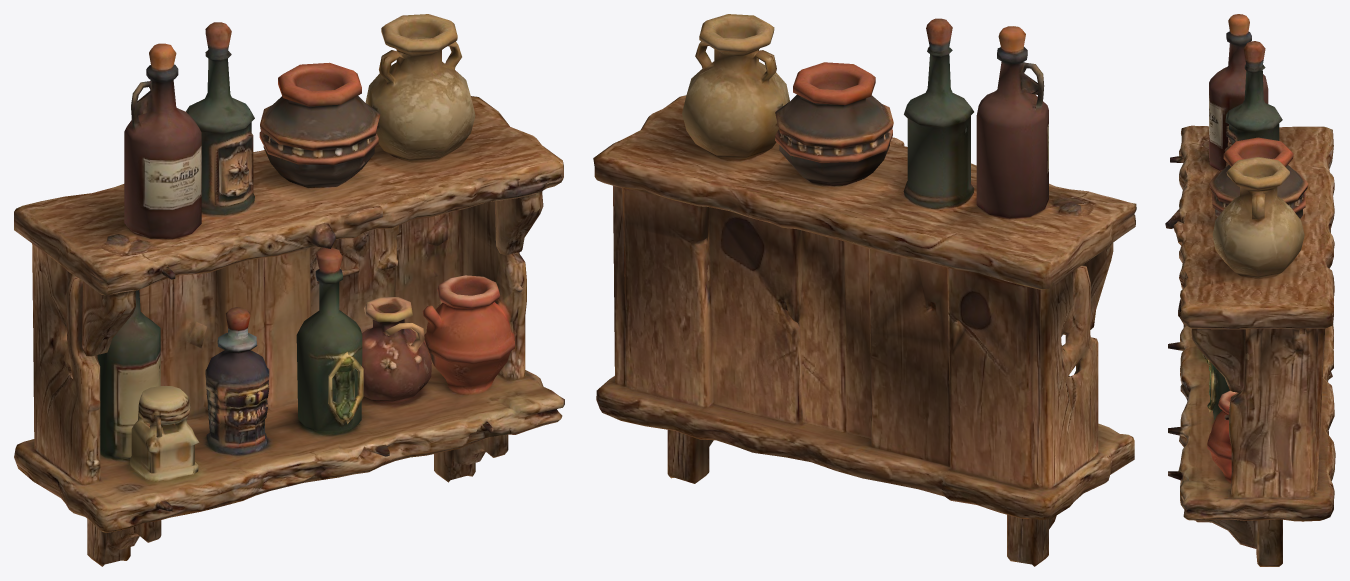
File: shelf.glb
3 views of the same model, side by side, from view 1: azimuth 30°, elevation 25°; view 2: azimuth 150°, elevation 25°; view 3: azimuth 270°, elevation 25° (orthographic). The views are drawn at different scales.
Visible parts, largest first — view 1: tripo_node_96a2e640-16a3-478e-9837-c554189c3737; view 2: tripo_node_96a2e640-16a3-478e-9837-c554189c3737; view 3: tripo_node_96a2e640-16a3-478e-9837-c554189c3737.
Boxes of the visible parts, x1,y1,x2,y2 form: tripo_node_96a2e640-16a3-478e-9837-c554189c3737: (14,14,564,566); tripo_node_96a2e640-16a3-478e-9837-c554189c3737: (593,14,1136,566); tripo_node_96a2e640-16a3-478e-9837-c554189c3737: (1165,14,1335,566).
Size of the model in its own units: 0.9274 by 0.9771 by 0.3576.
Materials: 1 (1 with a texture image).
